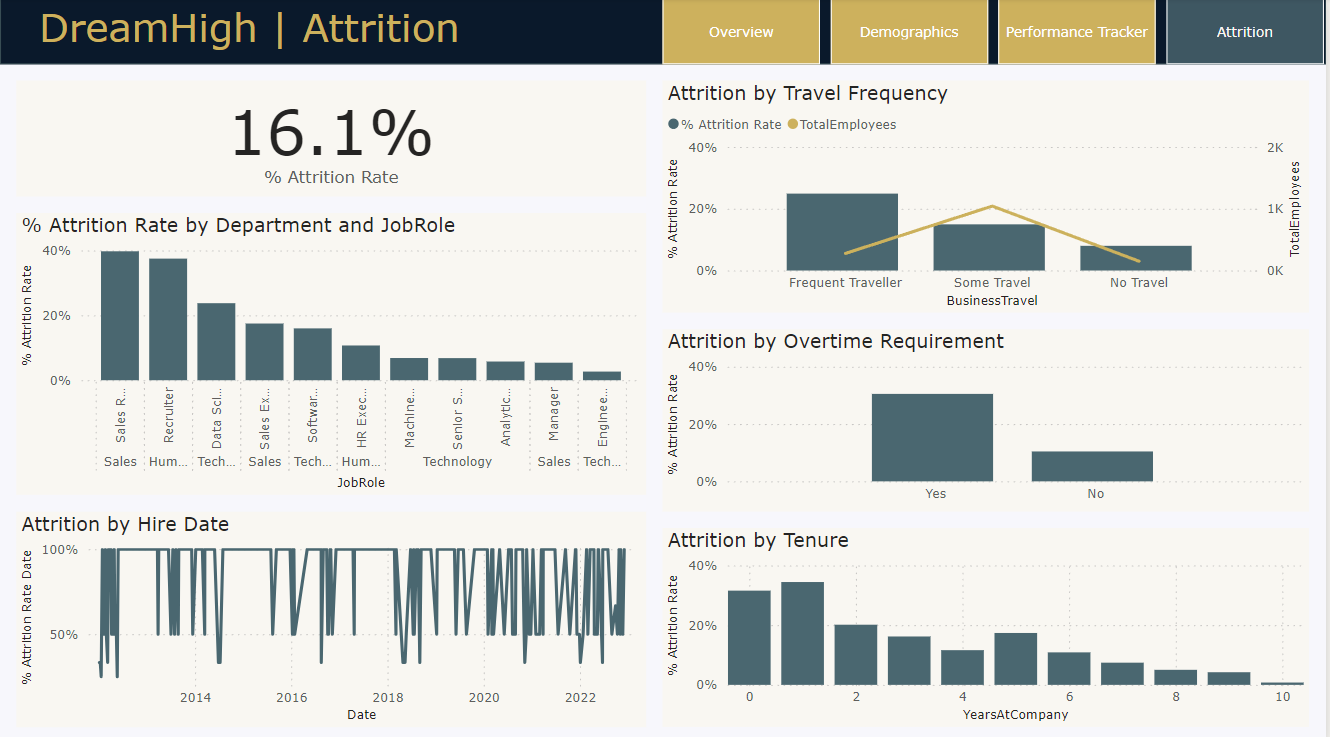

What the dashboard file says about the page in this screenshot:
{"tool":"powerbi","page":{"name":"Attrition","canvas":[1280,720],"ordinal":3},"visuals":[{"type":"card","fields":{"Values":["_Measures.% Attrition Rate"]},"box":[16,80,608,112],"z":0},{"type":"columnChart","fields":{"Category":["DimEmployee.Department","DimEmployee.JobRole"],"Y":["_Measures.% Attrition Rate"]},"box":[16,208,608,272],"z":1000},{"type":"lineChart","title":"Attrition by Hire Date","fields":{"Y":["_Measures.% Attrition Rate Date"],"Category":["DimDate.Date.Variation.Date Hierarchy.Year"]},"box":[16,496,608,208],"z":2000},{"type":"lineStackedColumnComboChart","title":"Attrition by Travel Frequency","fields":{"Y":["_Measures.% Attrition Rate"],"Category":["DimEmployee.BusinessTravel"],"Y2":["_Measures.TotalEmployees"]},"box":[640,80,624,224],"z":3000},{"type":"columnChart","title":"Attrition by Overtime Requirement","fields":{"Category":["DimEmployee.OverTime"],"Y":["_Measures.% Attrition Rate"]},"box":[640,320,624,176],"z":4000},{"type":"columnChart","title":"Attrition by Tenure","fields":{"Category":["DimEmployee.YearsAtCompany"],"Y":["_Measures.% Attrition Rate"]},"box":[640,512,624,192],"z":5000},{"type":"shape","box":[0,0,1280,64],"z":6000},{"type":"textbox","box":[32,0,624,64],"z":7000},{"type":"pageNavigator","box":[640,0,640,64],"z":8000}]}

Visuals, with their boxes in screenshot pixels (x1, y1, x2, y2), scaled from the page's 1280x720 canvas onto the 1330x737 screenshot:
card - _Measures.% Attrition Rate: pyautogui.locateOnScreen(17, 82, 648, 197)
columnChart - DimEmployee.Department x DimEmployee.JobRole: pyautogui.locateOnScreen(17, 213, 648, 491)
"Attrition by Hire Date" lineChart: pyautogui.locateOnScreen(17, 508, 648, 721)
"Attrition by Travel Frequency" lineStackedColumnComboChart: pyautogui.locateOnScreen(665, 82, 1313, 311)
"Attrition by Overtime Requirement" columnChart: pyautogui.locateOnScreen(665, 328, 1313, 508)
"Attrition by Tenure" columnChart: pyautogui.locateOnScreen(665, 524, 1313, 721)
shape: pyautogui.locateOnScreen(0, 0, 1329, 66)
textbox: pyautogui.locateOnScreen(33, 0, 682, 66)
pageNavigator: pyautogui.locateOnScreen(665, 0, 1329, 66)
